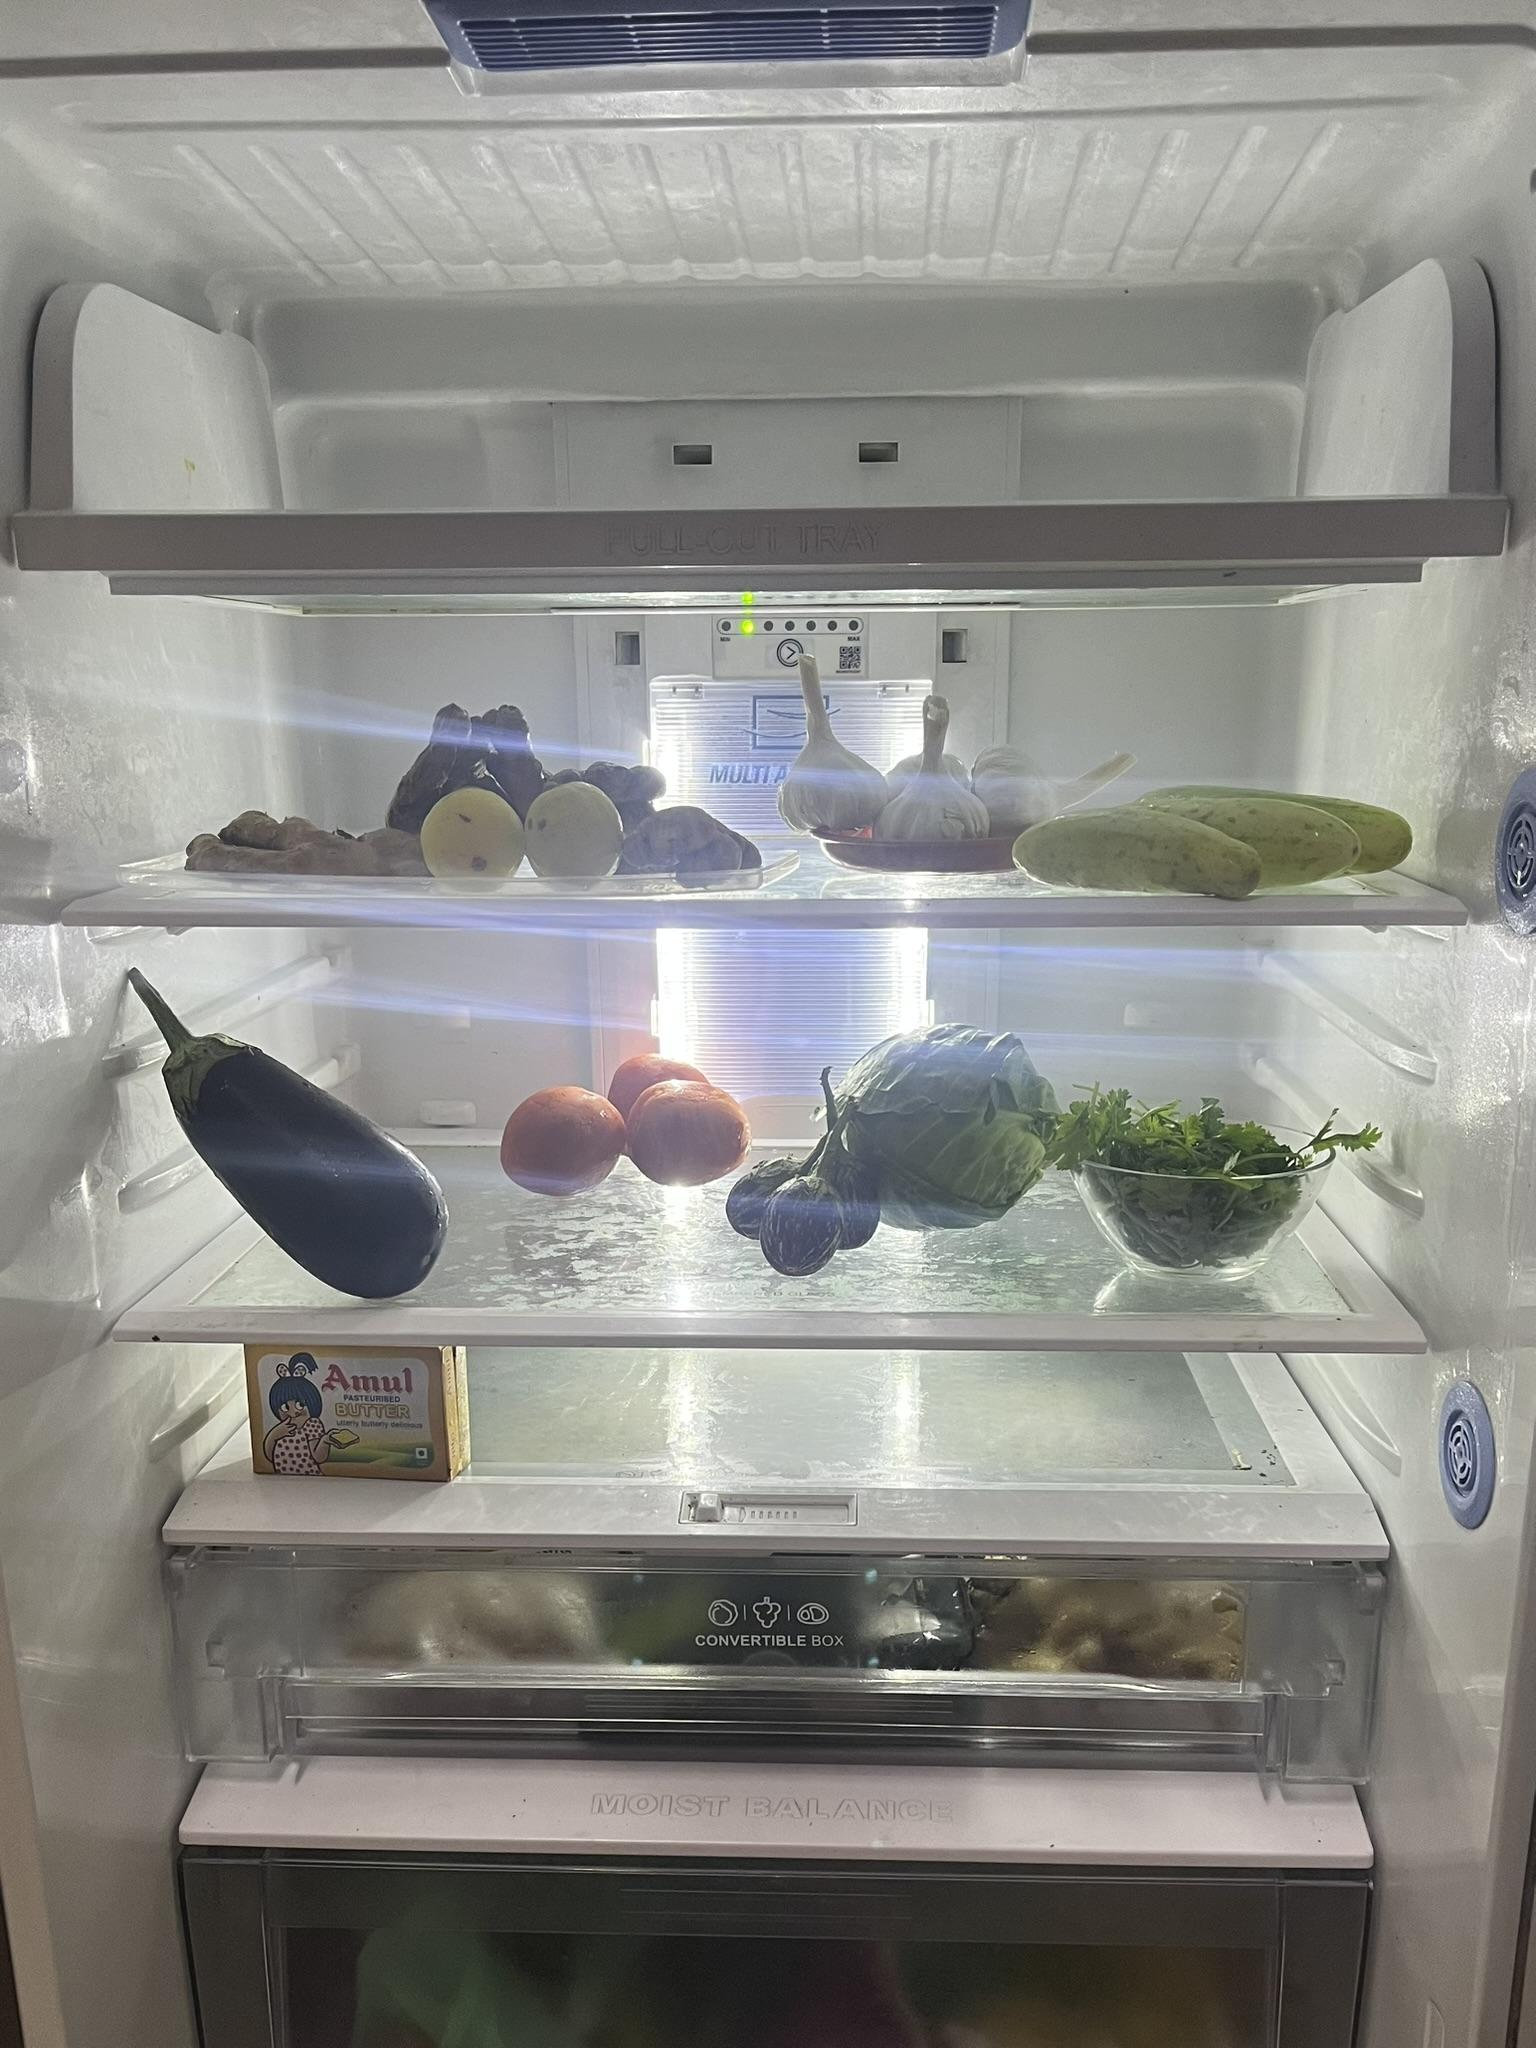bringal: (110, 947, 460, 1300), (737, 1127, 891, 1271)
butter: (253, 1347, 476, 1477)
cabbage: (826, 1016, 1057, 1240)
coriander: (1060, 1093, 1323, 1259)
cucumber: (1016, 784, 1417, 890)
garlic: (797, 647, 1083, 834)
ginger: (407, 706, 660, 800), (207, 803, 423, 880), (623, 813, 766, 884)
lemon: (423, 787, 616, 880)
tomato: (497, 1047, 757, 1180)
